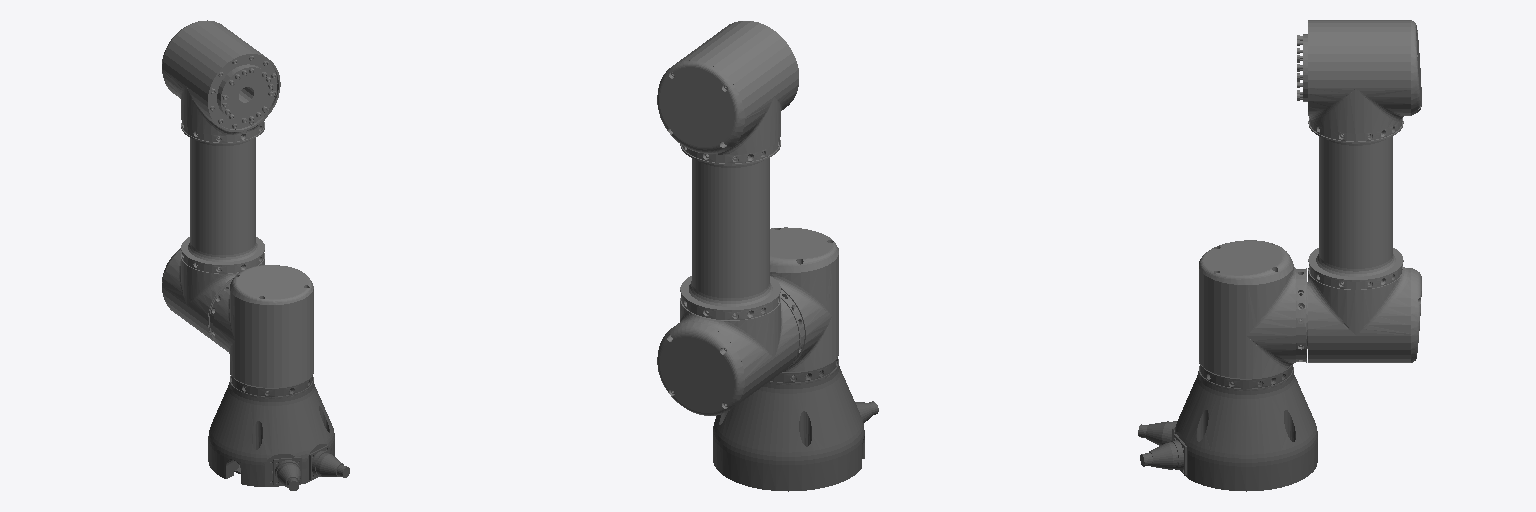
URDF robot description (eRobo3):
<robot name="eRobo3" version="1.0">
  <joint name="Joint_1" type="revolute">
    <safety_controller k_position="100.0" k_velocity="40.0" soft_lower_limit="-2.8973" soft_upper_limit="2.8973" />
    <origin rpy="0.00000 0.00000 0.00000" xyz="0.00000 0.00000 0.00000"/>
    <parent link="base_link"/>
    <child link="Link_1"/>
    <axis xyz="0.00000 0.00000 1.00000"/>
    <limit effort="87" lower="-2.9671" upper="2.9671" velocity="2.3925" />
  </joint>
  <joint name="Joint_2" type="revolute">
    <safety_controller k_position="100.0" k_velocity="40.0" soft_lower_limit="-1.7628" soft_upper_limit="1.7628" />
    <origin rpy="0.00000 0.00000 0.00000" xyz="0.00000 0.05300 0.14050"/>
    <parent link="Link_1"/>
    <child link="Link_2"/>
    <axis xyz="0.00000 -1.00000 0.00000"/>
    <limit effort="87" lower="-1.8326" upper="1.8326" velocity="2.3925" />
  </joint>
 
  <link name="Link_1">
    <collision name="Link_1_collision">
      <origin rpy="0.00000 0.00000 0.00000" xyz="0.00000 0.00000 0.00000"/>
      <geometry>
        <mesh filename="package://erob_arm/meshes/Link_1.stl" scale="1.00000 1.00000 1.00000"/>
      </geometry>
    </collision>
    <inertial>
      <inertia ixx="0.00054" ixy="0.00000" ixz="0.00000" iyy="0.00052" iyz="0.00000" izz="0.00054"/>
      <origin rpy="0.00000 0.00000 0.00000" xyz="0.00000 0.00308 0.13617"/>
      <mass value="0.50622"/>
    </inertial>
    <visual name="Link_1_visual">
      <origin rpy="0.00000 0.00000 0.00000" xyz="0.00000 0.00000 0.00000"/>
      <material name="#ffffffff"/>
      <geometry>
        <mesh filename="package://erob_arm/meshes/Link_1.stl" scale="1.00000 1.00000 1.00000"/>
      </geometry>
    </visual>
  </link>
  <link name="Link_2">
    <collision name="Link_2_collision">
      <origin rpy="0.00000 0.00000 0.00000" xyz="0.00000 0.00000 0.00000"/>
      <geometry>
        <mesh filename="package://erob_arm/meshes/Link_2.stl" scale="1.00000 1.00000 1.00000"/>
      </geometry>
    </collision>
    <inertial>
      <inertia ixx="0.00157" ixy="0.00000" ixz="0.00000" iyy="0.00156" iyz="0.00000" izz="0.00119"/>
      <origin rpy="0.00000 0.00000 0.00000" xyz="0.00000 0.04217 0.11937"/>
      <mass value="1.16203"/>
    </inertial>
    <visual name="Link_2_visual">
      <origin rpy="0.00000 0.00000 0.00000" xyz="0.00000 0.00000 0.00000"/>
      <material name="#ffffffff"/>
      <geometry>
        <mesh filename="package://erob_arm/meshes/Link_2.stl" scale="1.00000 1.00000 1.00000"/>
      </geometry>
    </visual>
  </link>
  
  <link name="base_link">
    <collision name="base_link_collision">
      <origin rpy="0.00000 0.00000 0.00000" xyz="0.00000 0.00000 0.00000"/>
      <geometry>
        <mesh filename="package://erob_arm/meshes/base_link.stl" scale="1.00000 1.00000 1.00000"/>
      </geometry>
    </collision>
    <inertial>
      <inertia ixx="0.00083" ixy="0.00001" ixz="0.00001" iyy="0.00085" iyz="0.00003" izz="0.00110"/>
      <origin rpy="0.00000 0.00000 0.00000" xyz="0.00095 -0.00172 0.03600"/>
      <mass value="0.47602"/>
    </inertial>
    <visual name="base_link_visual">
      <origin rpy="0.00000 0.00000 0.00000" xyz="0.00000 0.00000 0.00000"/>
      <material name="base"/>
      <geometry>
        <mesh filename="package://erob_arm/meshes/base_link.stl" scale="1.00000 1.00000 1.00000"/>
      </geometry>
    </visual>
  </link>
  <material name="#ffffffff">
    <color rgba="0.50000 0.50000 0.50000 1.0000"/>
  </material>
    <material name="base">
    <color rgba="0.40000 0.40000 0.40000 1.0000"/>
  </material>
</robot>

--- Render facts (derived) ---
3 views of the same robot in one strip: view 1: azimuth 30°, elevation 25°; view 2: azimuth 150°, elevation 25°; view 3: azimuth 270°, elevation 25° (orthographic).
Robot: eRobo3 — 3 links, 2 joints (2 revolute); root link base_link; default pose: every joint at zero.
Links seen in each view (by area): view 1: Link_2, base_link, Link_1; view 2: Link_2, base_link, Link_1; view 3: Link_2, base_link, Link_1.
Boxes of the visible links, <box> form: Link_2: <box>162,20,280,343</box>; base_link: <box>208,372,349,490</box>; Link_1: <box>208,265,313,391</box>; Link_2: <box>657,21,799,415</box>; base_link: <box>713,354,878,491</box>; Link_1: <box>770,227,838,376</box>; Link_2: <box>1297,20,1421,362</box>; base_link: <box>1138,362,1317,491</box>; Link_1: <box>1199,240,1306,382</box>.
Bounding box of the posed robot: 0.128 × 0.2532 × 0.4294 m (x, y, z).
3 mesh visuals loaded from 3 distinct referenced files (3 binary STL).
